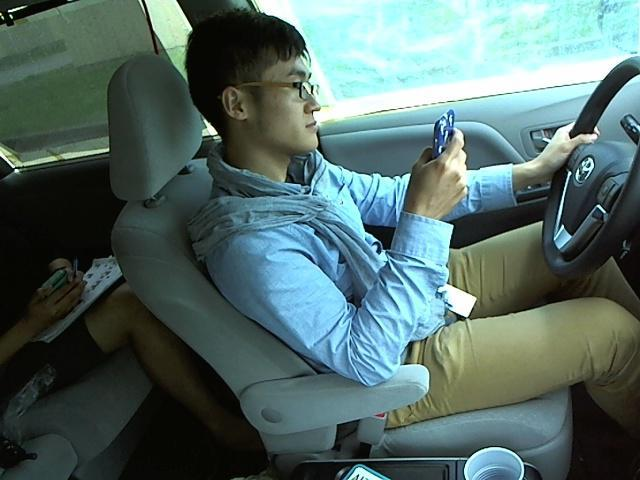PhoneUse: (413, 103, 466, 170)
